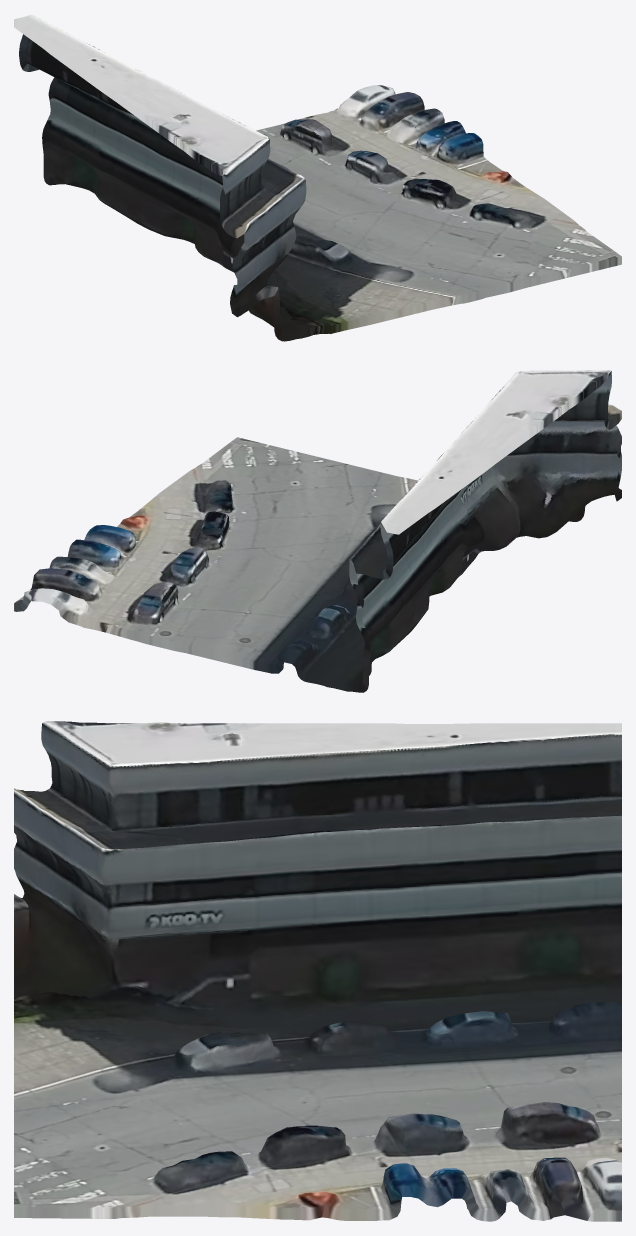
File: z20-167773-405201-h0-yup-uvflip-v3-world.glb
The picture shows the model from 3 angles, top to bottom: view 1: azimuth 30°, elevation 25°; view 2: azimuth 150°, elevation 25°; view 3: azimuth 270°, elevation 25°; orthographic projection. The views are drawn at different scales.
Bounding box in the file's own units: 30.16 × 13.68 × 30.32.
Materials: 1 (1 with a texture image).
